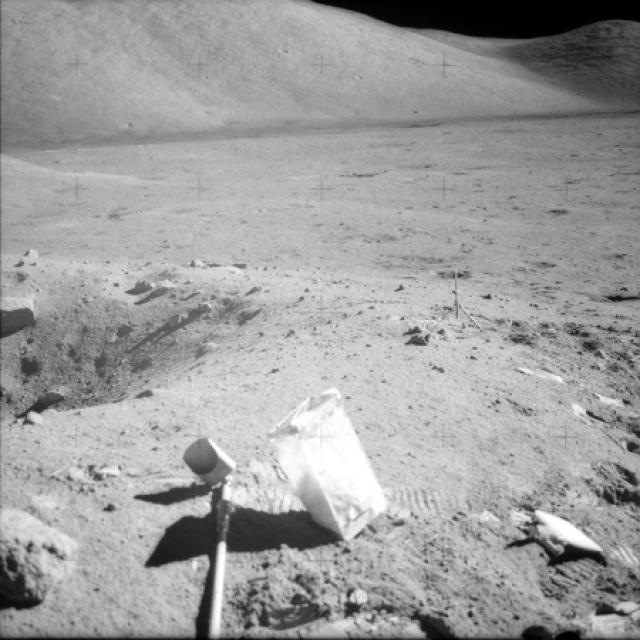artifact: (164, 389, 384, 638), (438, 258, 488, 332)
crater: (2, 309, 218, 417)
rock: (3, 508, 88, 611), (520, 502, 607, 566), (0, 292, 37, 330), (404, 310, 429, 348), (12, 243, 42, 265), (130, 273, 152, 297), (153, 277, 176, 294)
